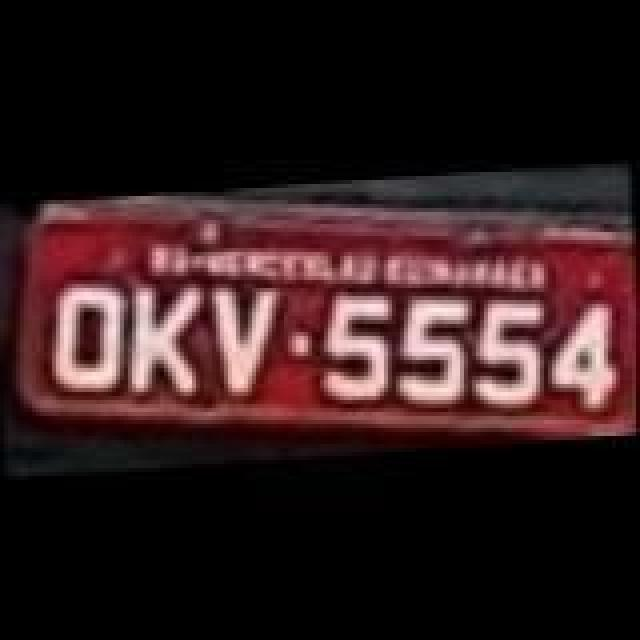4: (540, 296, 624, 416)
5: (470, 294, 550, 410), (318, 296, 398, 408), (398, 296, 478, 408)
K: (126, 282, 206, 406)
O: (44, 282, 128, 398)
V: (214, 284, 294, 404)
